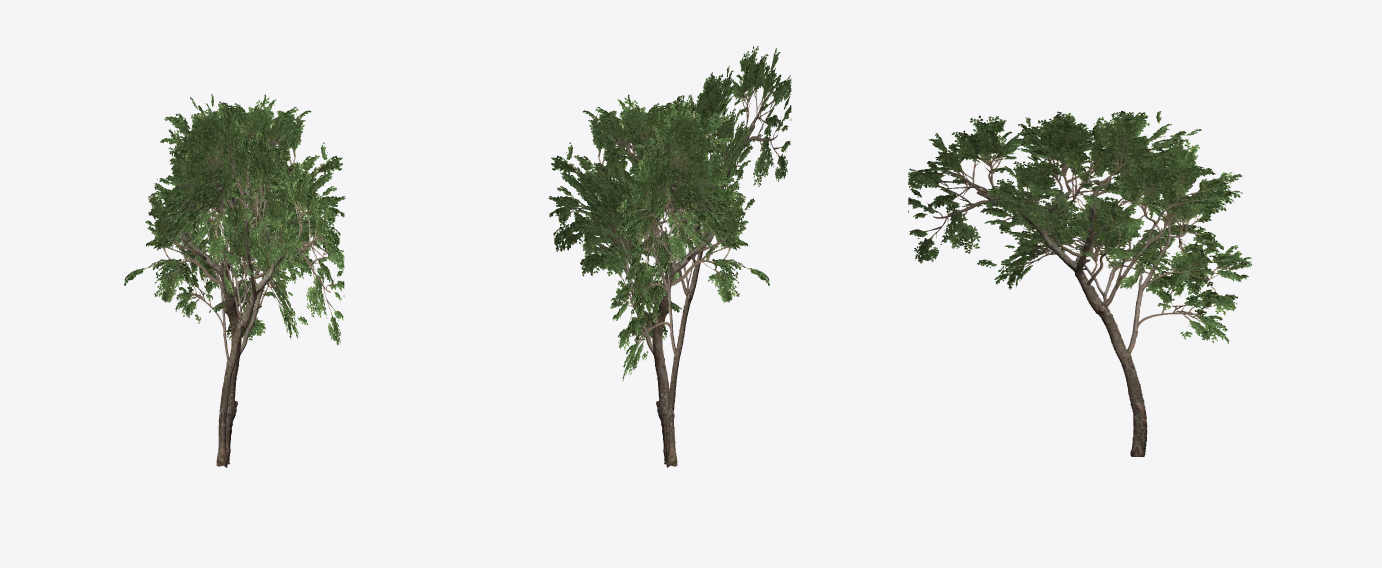
File: tree_broadleaf_lod1.glb
3 renders of one model, left to right at view 1: azimuth 30°, elevation 25°; view 2: azimuth 150°, elevation 25°; view 3: azimuth 270°, elevation 25°, orthographic. The views are drawn at different scales.
Parts seen in each view (by area): view 1: tree_broadleaf_far; view 2: tree_broadleaf_far; view 3: tree_broadleaf_far.
Boxes of the visible parts, left/top/right/bottom form: tree_broadleaf_far: left=124, top=93, right=345, bottom=467; tree_broadleaf_far: left=548, top=46, right=791, bottom=467; tree_broadleaf_far: left=908, top=111, right=1252, bottom=456.
Size of the model in its own units: 5.49 by 4.56 by 5.49.
1 material, 1 textured.
